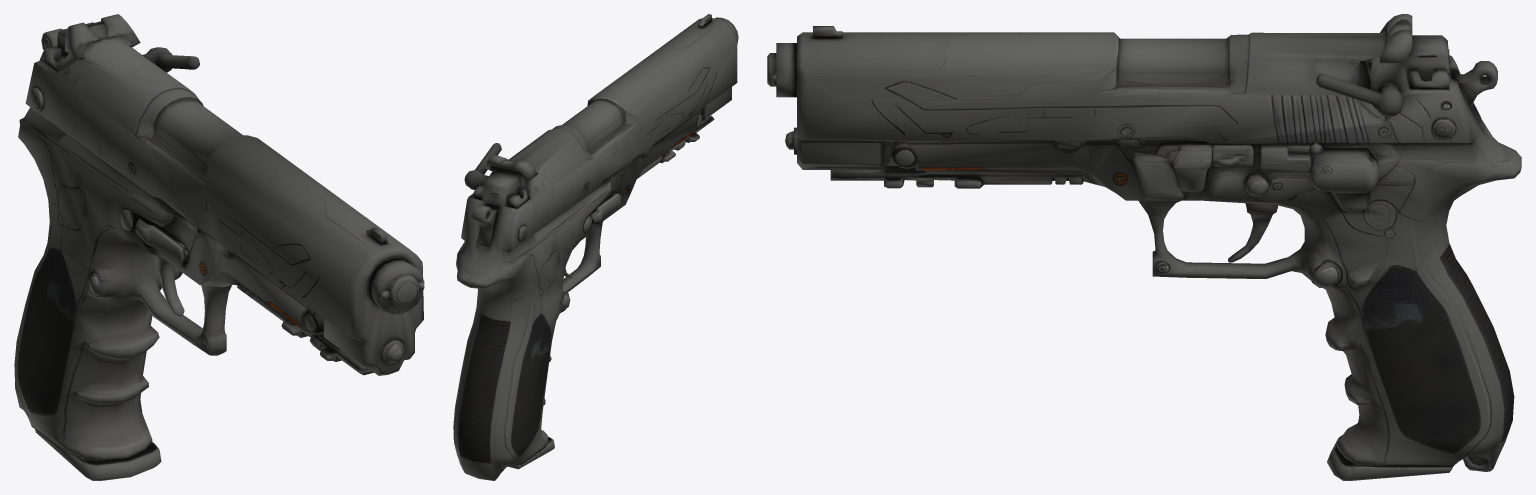
3 views of the same model, side by side, from view 1: azimuth 30°, elevation 25°; view 2: azimuth 150°, elevation 25°; view 3: azimuth 270°, elevation 25° (orthographic). The views are drawn at different scales.
Parts seen in each view (by area): view 1: tripo_node_34f03b8d-bd0d-4e77-a950-3e1c3b132de8; view 2: tripo_node_34f03b8d-bd0d-4e77-a950-3e1c3b132de8; view 3: tripo_node_34f03b8d-bd0d-4e77-a950-3e1c3b132de8.
Boxes of the visible parts, left/top/right/bottom form: tripo_node_34f03b8d-bd0d-4e77-a950-3e1c3b132de8: left=14, top=14, right=424, bottom=480; tripo_node_34f03b8d-bd0d-4e77-a950-3e1c3b132de8: left=453, top=14, right=738, bottom=480; tripo_node_34f03b8d-bd0d-4e77-a950-3e1c3b132de8: left=767, top=14, right=1521, bottom=480.
Size of the model in its own units: 0.1777 by 0.6426 by 0.998.
Materials: 1 (1 with a texture image).
